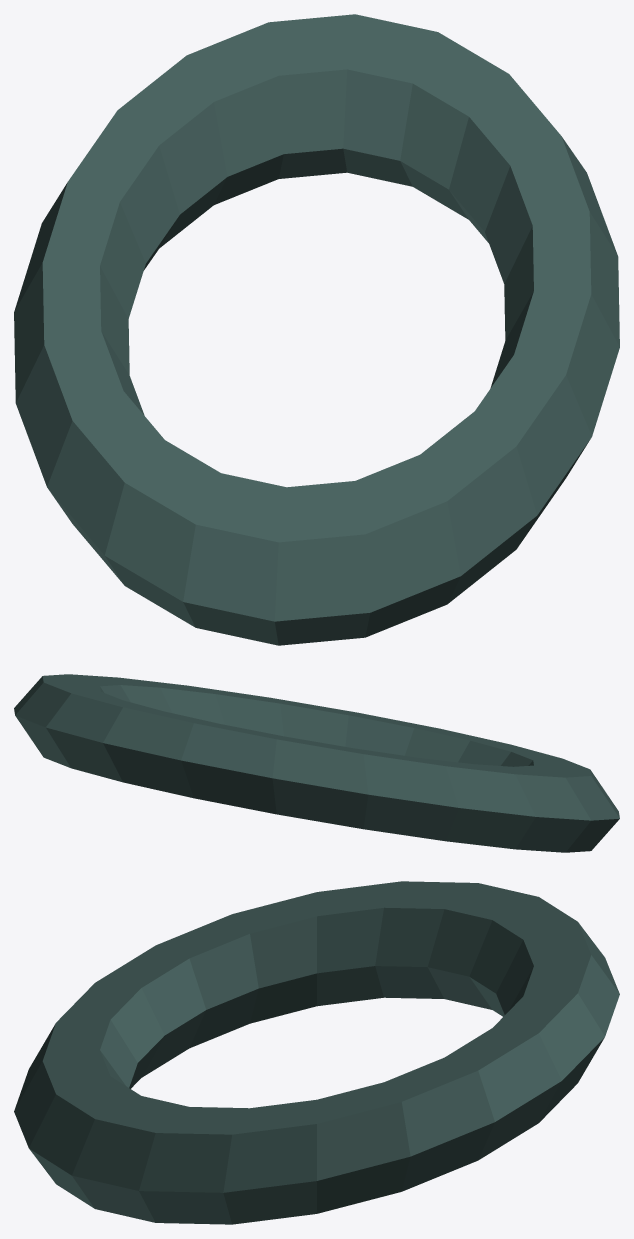
File: Checkpoint_RingIdle.gltf
3 renders of one model, top to bottom at view 1: azimuth 30°, elevation 25°; view 2: azimuth 150°, elevation 25°; view 3: azimuth 270°, elevation 25°, orthographic. The views are drawn at different scales.
Parts seen in each view (by area): view 1: Checkpoint_RingIdle_baked; view 2: Checkpoint_RingIdle_baked; view 3: Checkpoint_RingIdle_baked.
Part boxes in pixels (<box>): Checkpoint_RingIdle_baked: <box>14,14,619,645</box>; Checkpoint_RingIdle_baked: <box>14,674,619,852</box>; Checkpoint_RingIdle_baked: <box>14,881,619,1224</box>.
Bounding box in the file's own units: 0.3976 × 0.1946 × 0.37.
